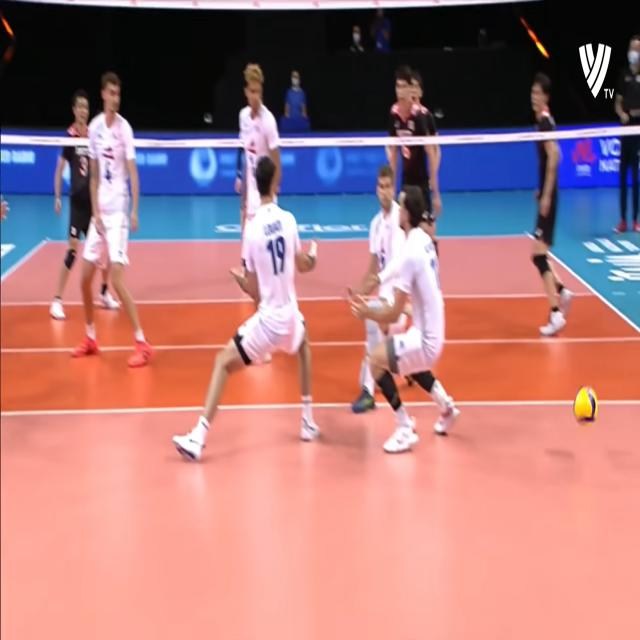player: (197, 152, 326, 463), (85, 69, 155, 378), (386, 189, 459, 452), (52, 88, 117, 319), (529, 75, 576, 337), (242, 51, 282, 239), (383, 64, 442, 189), (366, 170, 405, 300)
